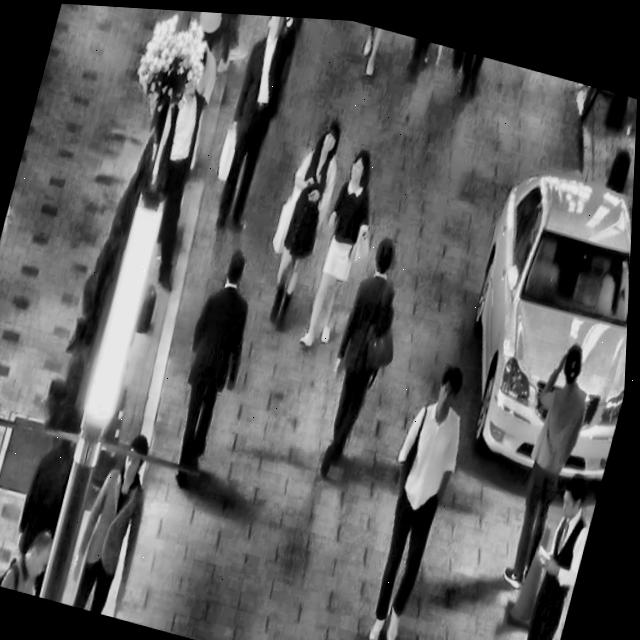light_vehicle: (432, 131, 636, 492)
